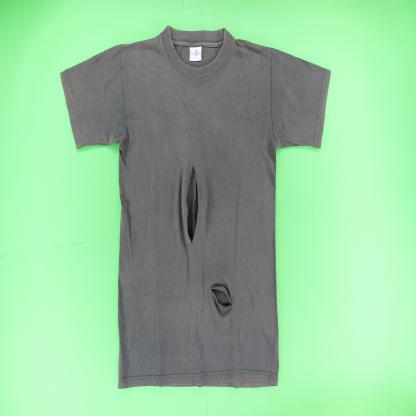hole: (184, 164, 200, 245), (209, 284, 234, 313)
